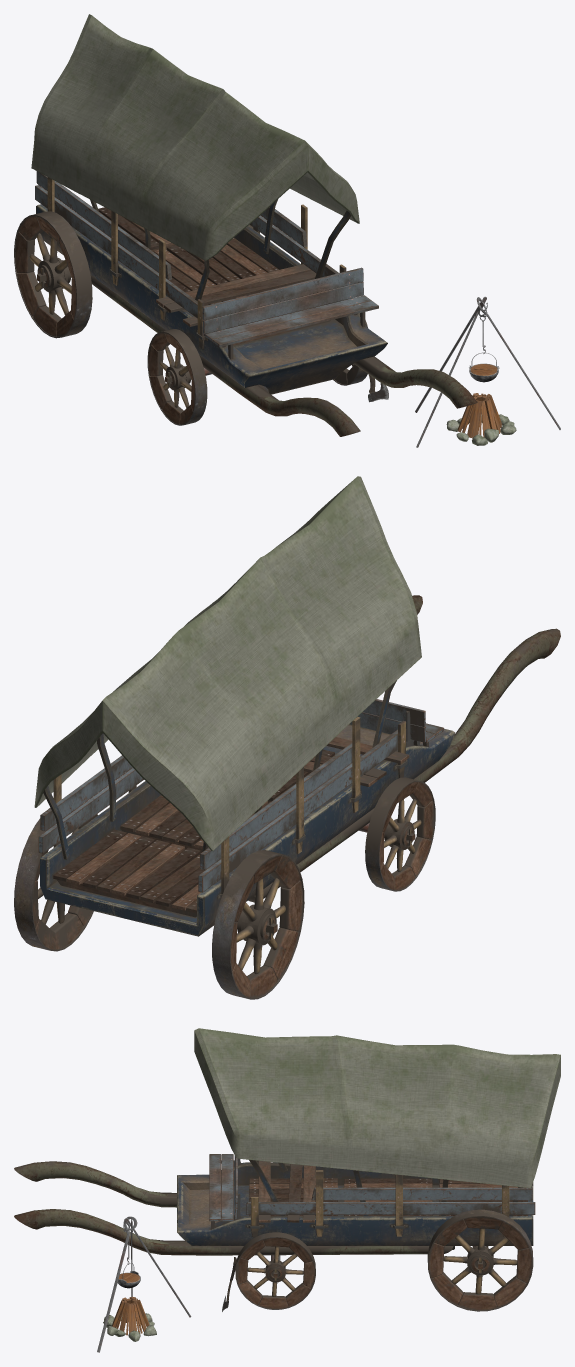
File: Travelers_Wagon_-_SGD_114.fbx
3 renders of one model, top to bottom at view 1: azimuth 30°, elevation 25°; view 2: azimuth 150°, elevation 25°; view 3: azimuth 270°, elevation 25°, orthographic. The views are drawn at different scales.
Parts seen in each view (by area): view 1: Object_3, Object_5, Object_6, Object_4, Object_7, Object_2; view 2: Object_3, Object_6, Object_5, Object_4, Object_7; view 3: Object_3, Object_6, Object_4, Object_5, Object_7, Object_2.
Part boxes in pixels (x1,y1,x2,y2): Object_3: [31, 14, 359, 260]; Object_5: [35, 185, 378, 424]; Object_6: [35, 171, 477, 436]; Object_4: [36, 199, 387, 394]; Object_7: [14, 177, 367, 385]; Object_2: [415, 296, 560, 447]; Object_3: [34, 476, 421, 850]; Object_6: [14, 595, 560, 951]; Object_5: [38, 699, 443, 997]; Object_4: [40, 680, 455, 936]; Object_7: [41, 718, 407, 999]; Object_3: [194, 1028, 560, 1188]; Object_6: [14, 1160, 534, 1311]; Object_4: [177, 1160, 533, 1260]; Object_5: [209, 1154, 535, 1306]; Object_7: [235, 1160, 532, 1309]; Object_2: [97, 1216, 191, 1352].
Size of the model in its own units: 313 by 300 by 601.
5 materials, 5 textured.
